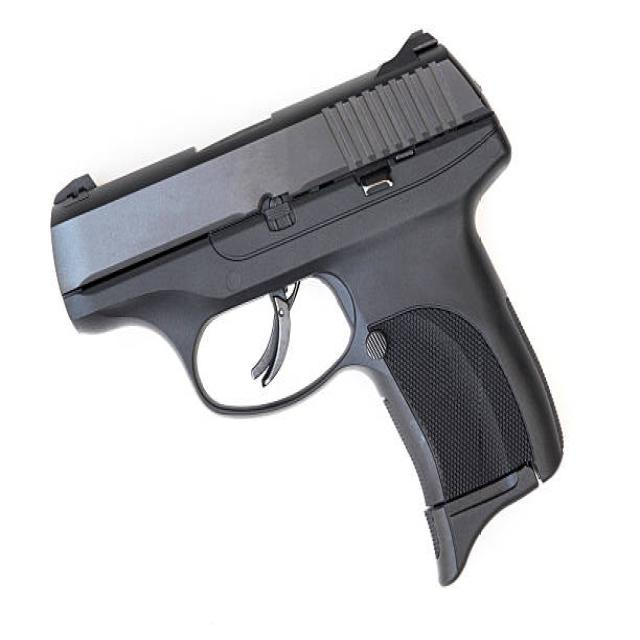pistol: (41, 20, 580, 597)
